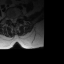CCS_normal: (13, 16, 14, 24)
LFS_normal: (16, 15, 18, 20)
LLS_normal: (14, 16, 16, 23)
RFS_normal: (9, 15, 11, 21)
RLS_normal: (11, 16, 13, 24)
